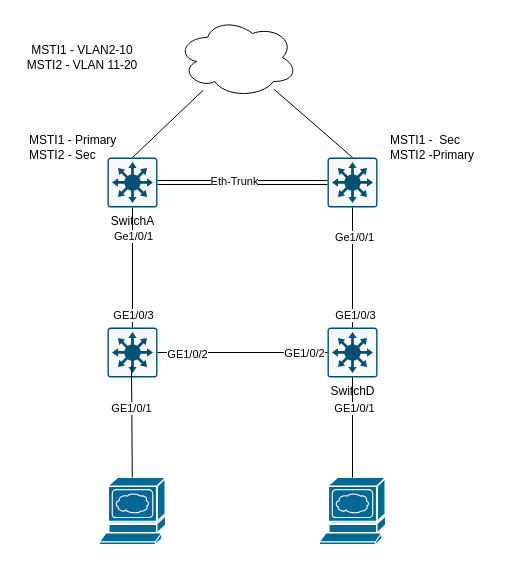
Some shapes in this 514 by 563 pixel diagram are drawn without their labels. Here are the shapes that lost their labels. From the top down, the centre of each, then its label:
At [352,182]: "SwitchB".
At [132,352]: "SwitchC".
